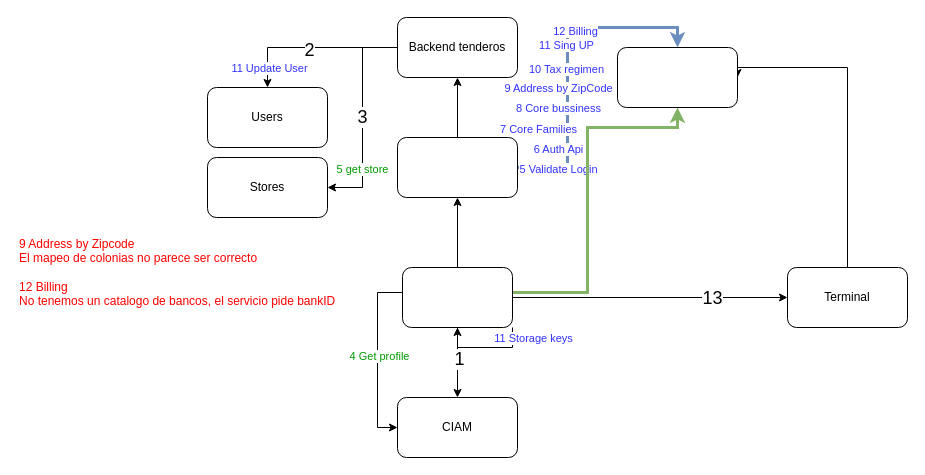
The diagram is 925 pixels wide and 475 high, and some of its shapes have lost their labels. The centre of each missing label's shape, as x and y in pixels:
Backend backbone: (x=457, y=167)
Mobile: (x=457, y=297)
Netpay: (x=677, y=77)
